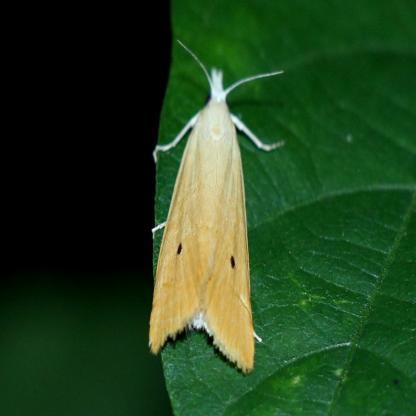stem-borer: (146, 34, 286, 376)
